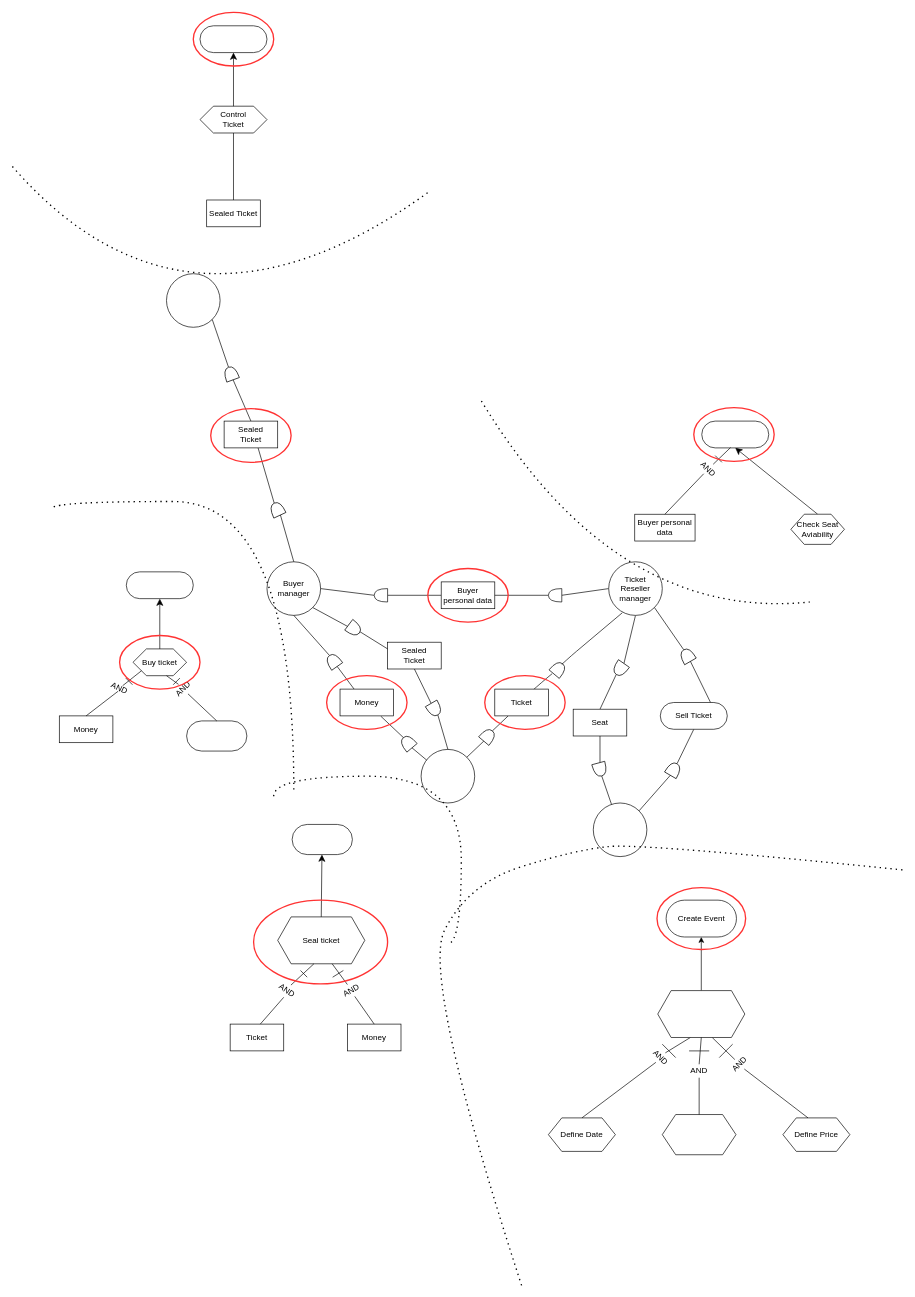
The diagram is 915 pixels wide and 1297 high, and some of its shapes have lost their labels. The shapes that lost their labels are listed below. From the top down, each one's box as (x1, y1, x2, y2) in pixels, then its label:
(199, 25, 267, 53): Validate Ticket
(166, 273, 220, 327): Ticket Validator managar
(701, 420, 769, 448): Generate Ticket
(126, 571, 193, 599): Attend event
(186, 720, 247, 751): Choose Event
(420, 749, 475, 803): Payment System
(291, 824, 352, 855): Deliver ticket
(593, 802, 647, 857): Event Manager unit
(657, 990, 745, 1037): Define Event Details
(662, 1114, 736, 1155): Define Number of Tickets
